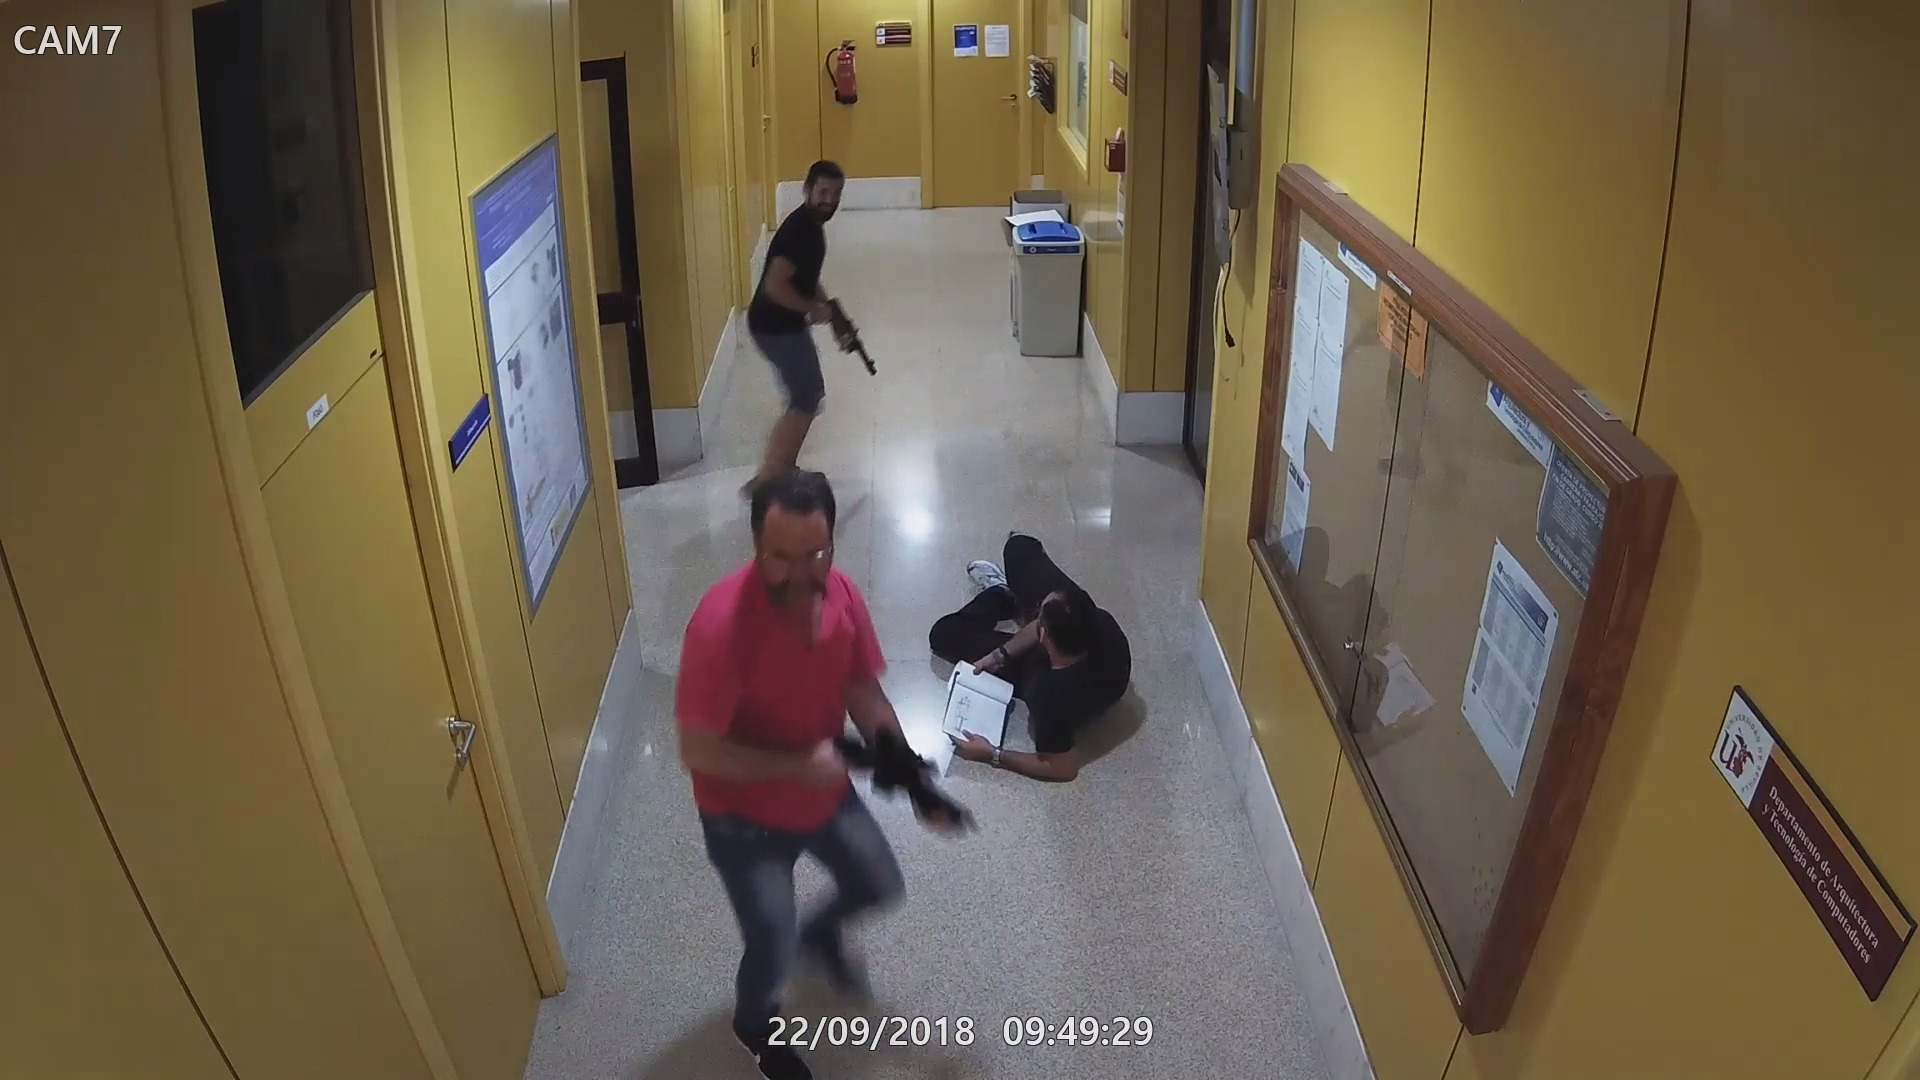Short_rifle: (828, 723, 975, 833), (814, 280, 877, 371)
